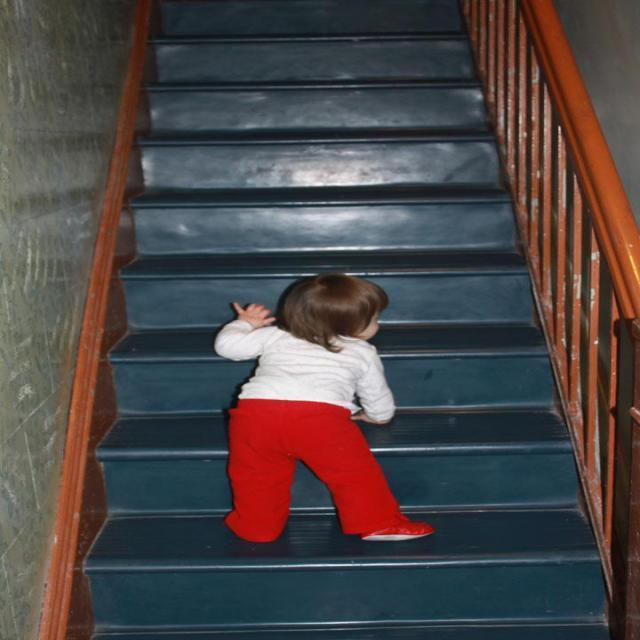child: (199, 269, 444, 553)
